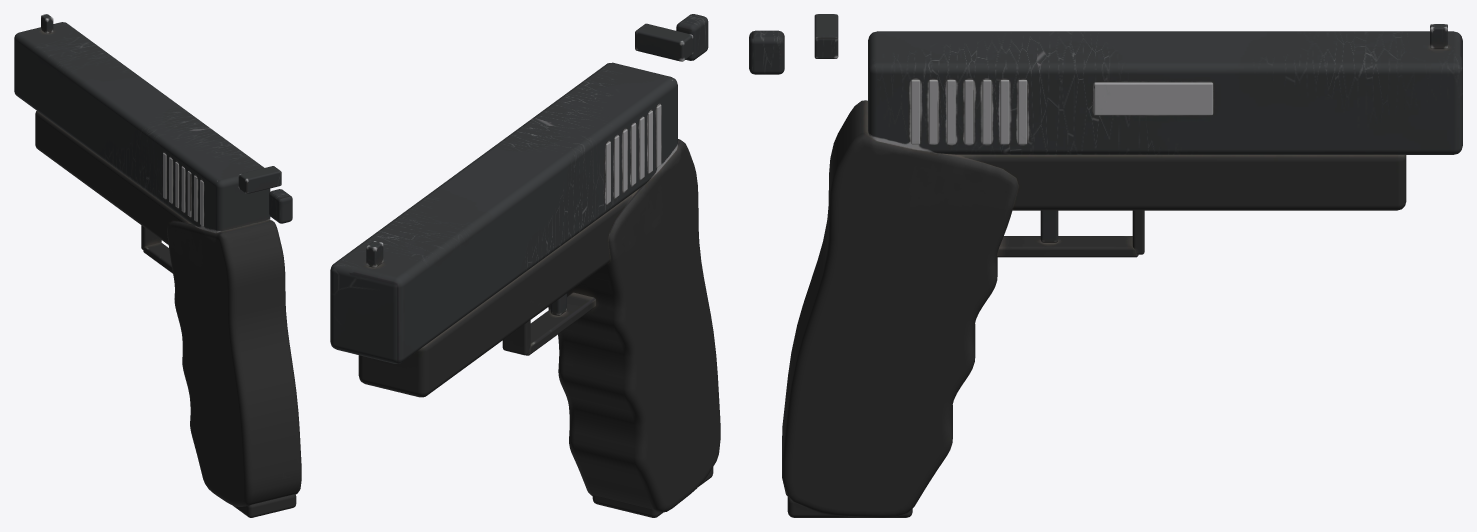
The picture shows the model from 3 angles, left to right: view 1: azimuth 30°, elevation 25°; view 2: azimuth 150°, elevation 25°; view 3: azimuth 270°, elevation 25°; orthographic projection. The views are drawn at different scales.
Parts seen in each view (by area): view 1: Frame, Mag_body; view 2: Frame, Mag_body; view 3: Frame.
Boxes of the visible parts, x1,y1,x2,y2 form: Frame: (14, 14, 301, 506); Mag_body: (233, 494, 296, 517); Frame: (330, 14, 720, 512); Mag_body: (592, 467, 713, 517); Frame: (749, 14, 1462, 517).
Bounding box in the file's own units: 0.0317 × 0.1771 × 0.24.
Materials: 4 (4 with a texture image).
